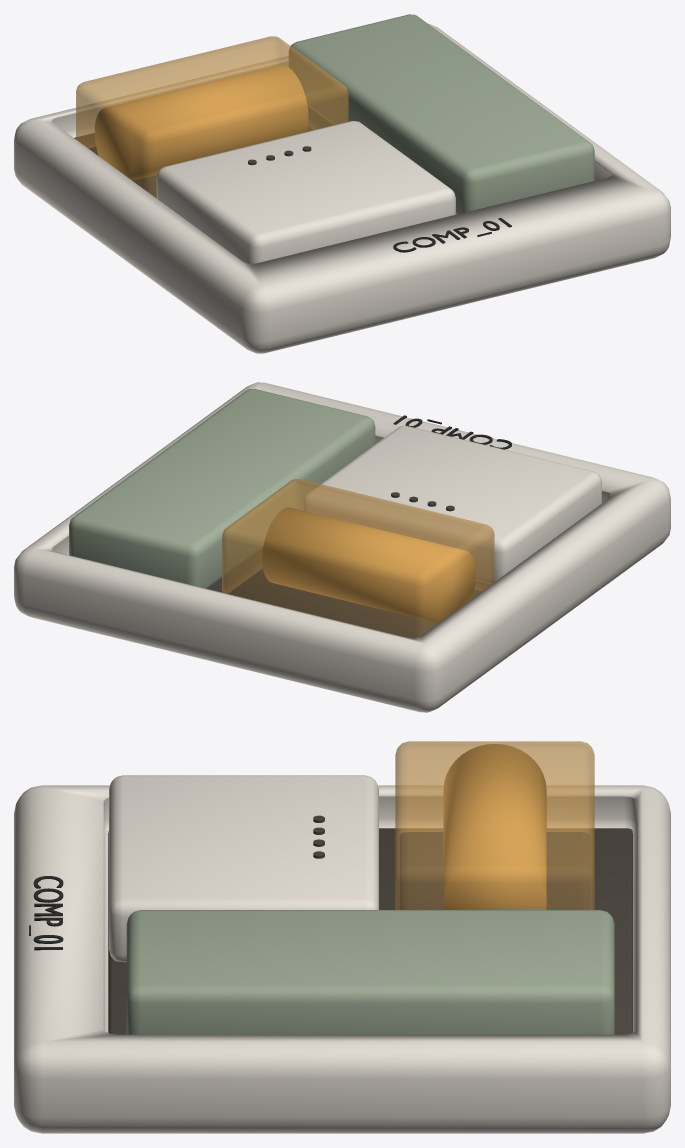
3 views of the same model, one above another, from view 1: azimuth 30°, elevation 25°; view 2: azimuth 150°, elevation 25°; view 3: azimuth 270°, elevation 25° (orthographic). The views are drawn at different scales.
Parts seen in each view (by area): view 1: ComponentTray, SageSideModule, SubCardModule, AmberHoodModule, InnerCoil, TrayFloor, Label_COMP01; view 2: ComponentTray, SageSideModule, AmberHoodModule, SubCardModule, InnerCoil, TrayFloor, Label_COMP01; view 3: ComponentTray, SageSideModule, SubCardModule, AmberHoodModule, TrayFloor, InnerCoil, Label_COMP01.
Boxes of the visible parts, <box> form: ComponentTray: <box>14,23,670,353</box>; SageSideModule: <box>289,14,594,214</box>; SubCardModule: <box>156,121,455,263</box>; AmberHoodModule: <box>76,36,348,197</box>; InnerCoil: <box>94,65,308,180</box>; TrayFloor: <box>74,107,332,197</box>; Label_COMP01: <box>393,218,511,252</box>; ComponentTray: <box>14,382,670,712</box>; SageSideModule: <box>69,388,375,588</box>; AmberHoodModule: <box>222,479,494,637</box>; SubCardModule: <box>303,426,601,583</box>; InnerCoil: <box>262,507,475,623</box>; TrayFloor: <box>208,549,490,638</box>; Label_COMP01: <box>393,415,511,449</box>; ComponentTray: <box>14,785,670,1133</box>; SageSideModule: <box>126,910,614,1034</box>; SubCardModule: <box>109,775,378,962</box>; AmberHoodModule: <box>395,741,594,909</box>; TrayFloor: <box>108,828,632,1034</box>; InnerCoil: <box>443,744,546,909</box>; Label_COMP01: <box>29,876,63,950</box>.
Bounding box in the file's own units: 2.8 × 0.72 × 2.8.
